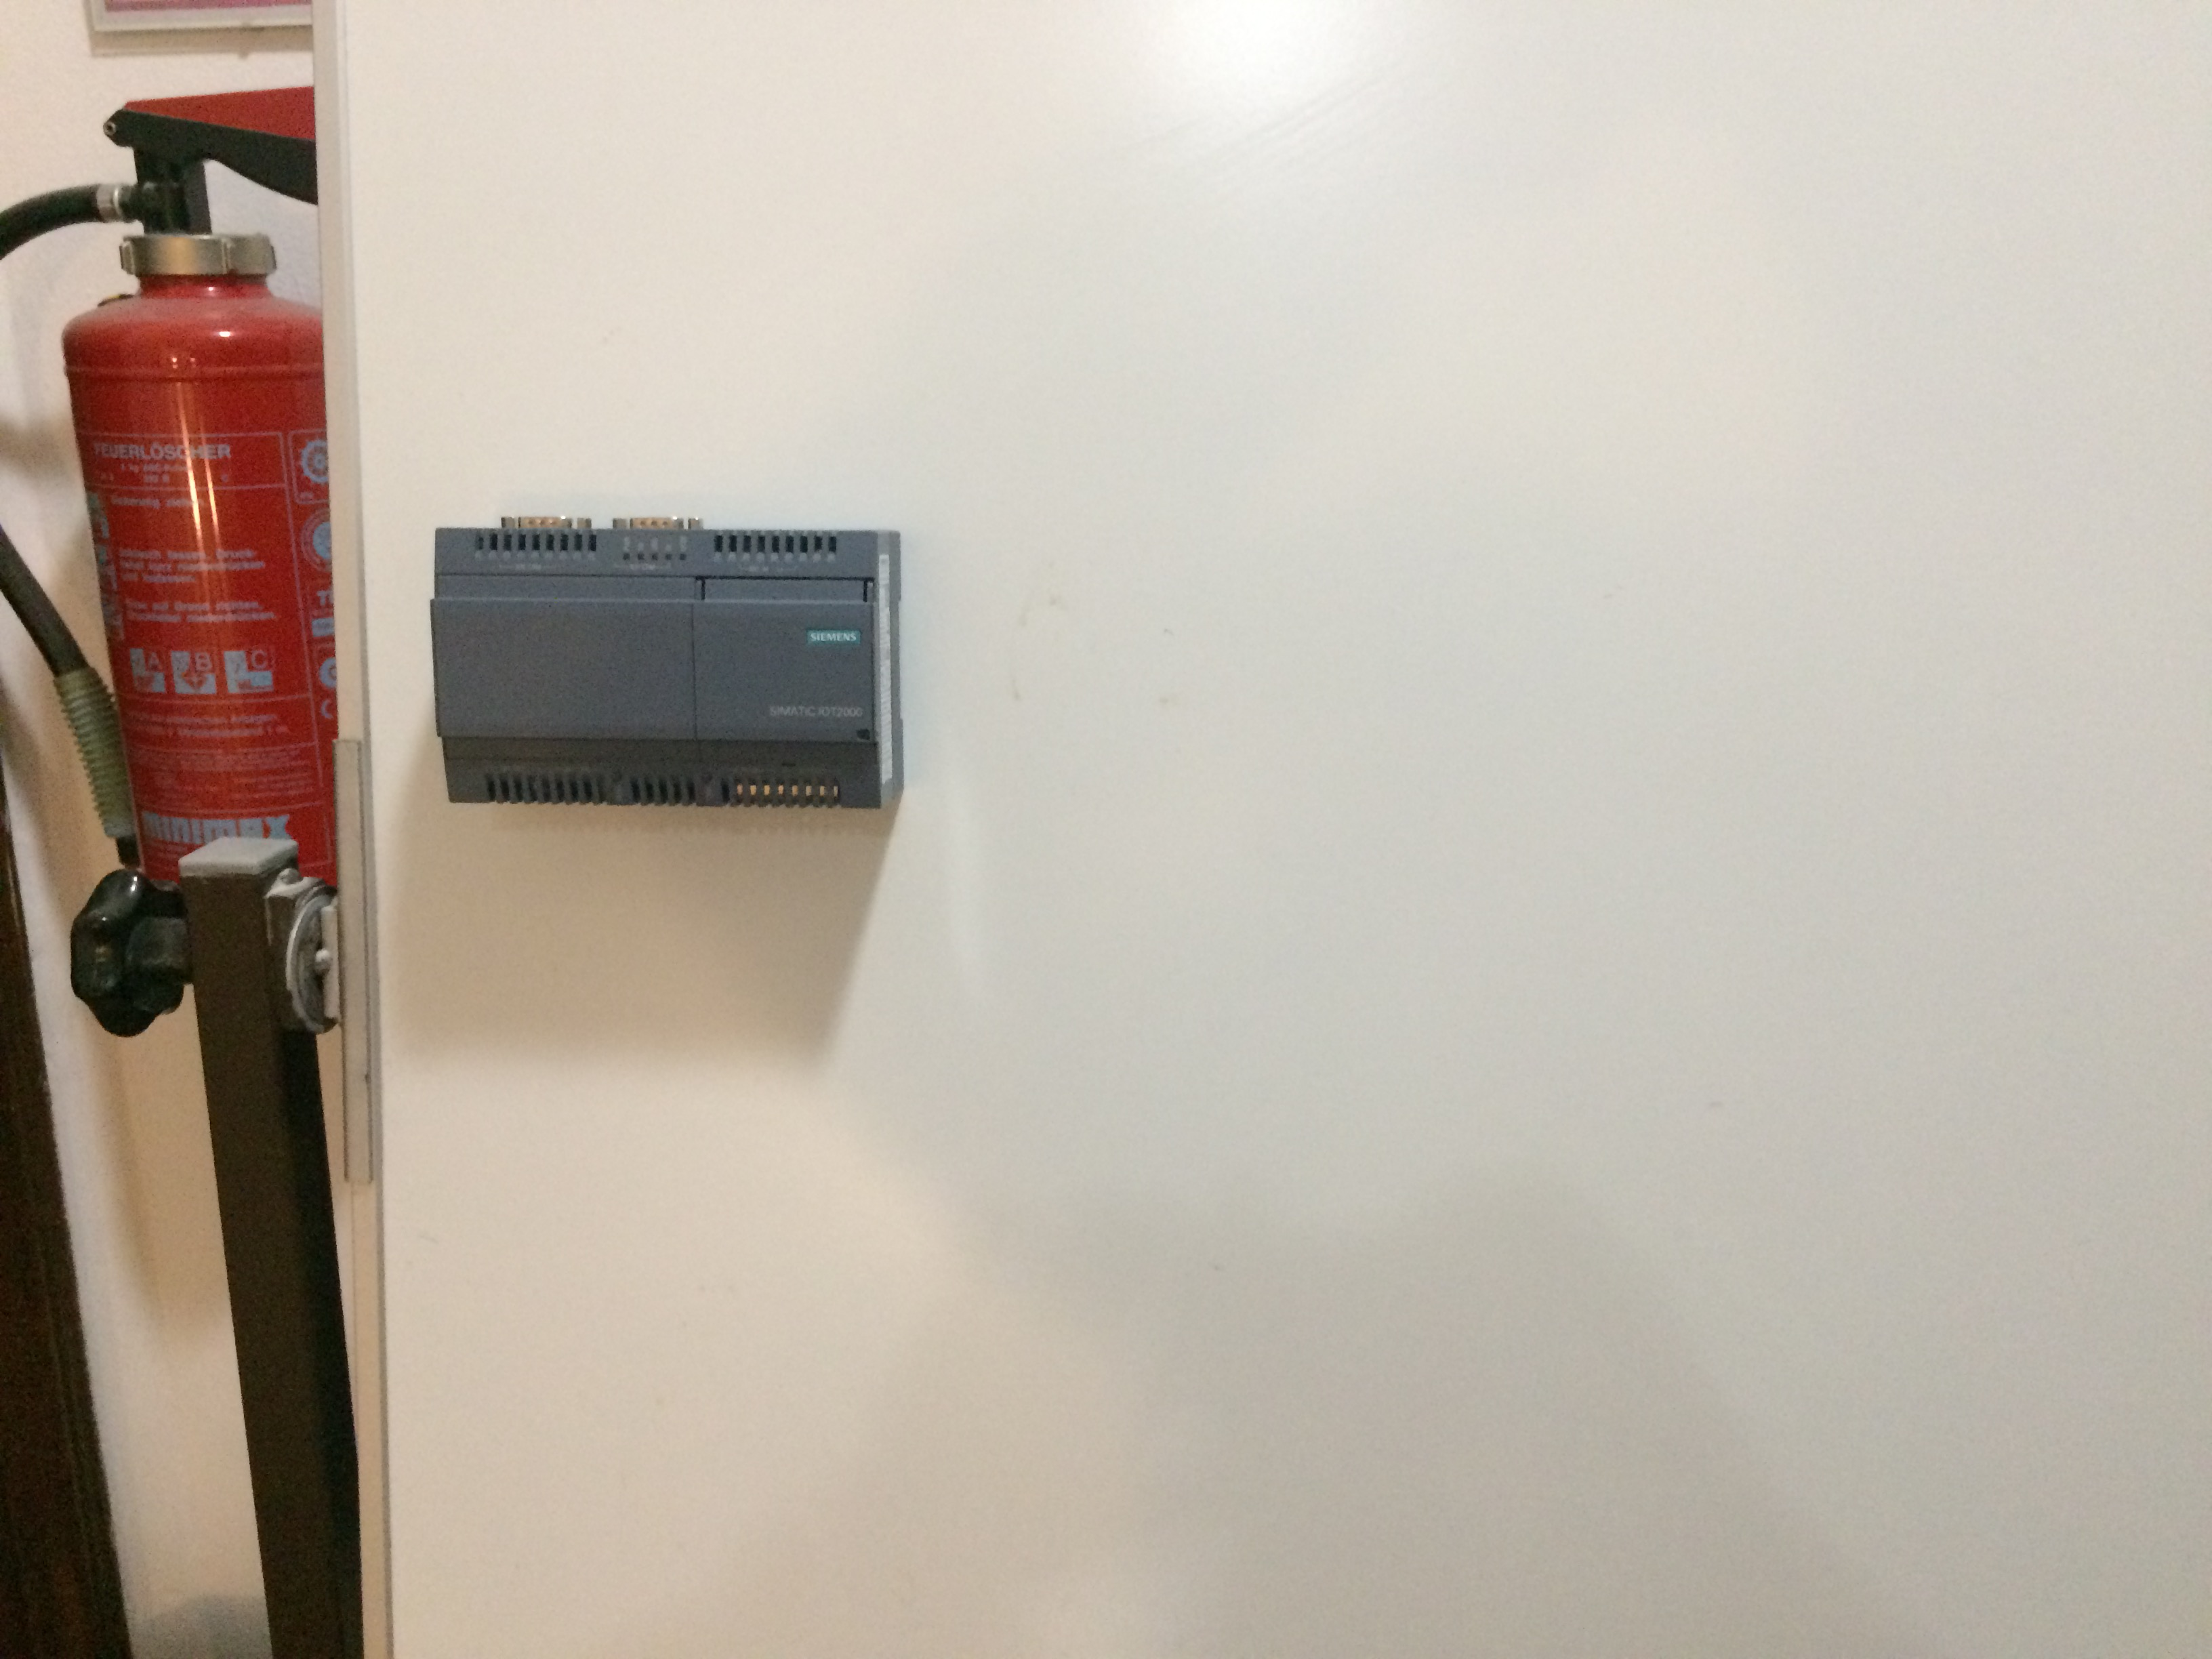iot2000: (427, 511, 909, 814)
